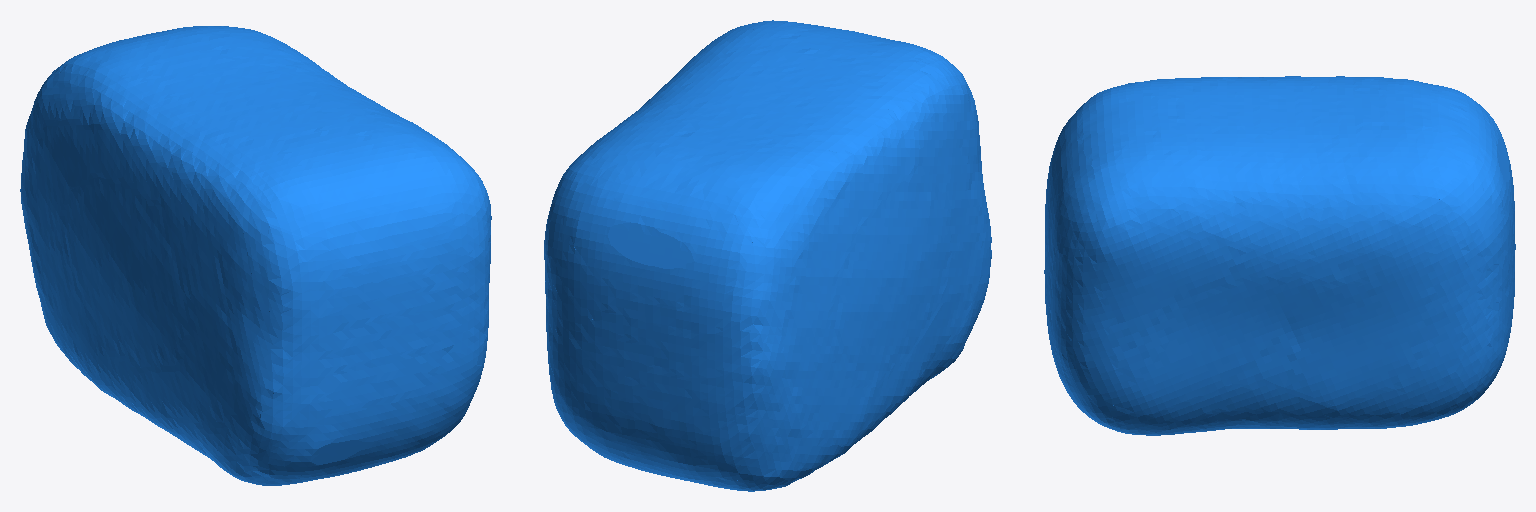
robot.urdf — mesh_obj:
<?xml version="1.0"?>
<robot name="mesh_obj">
  <link name="base">
    <inertial>
      <origin xyz="0 0 0" rpy="0 0 0"/>
      <mass value="0.01"/>
      <inertia ixx="9.043712425963854e-06" ixy="0" ixz="0" iyy="1.1387042655597892e-05" iyz="0" izz="9.384996783300233e-06"/>
    </inertial>
    <visual>
      <origin xyz="0 0 0" rpy="0 0 0"/>
      <geometry>
        <mesh filename="obj_mesh_visual.stl" scale="1 1 1"/>
      </geometry>
      <material name="obj_color">
        <color rgba="0.2 0.6 1.0 1.0"/>
      </material>
    </visual>
    <collision>
      <origin xyz="0 0 0" rpy="0 0 0"/>
      <geometry>
        <mesh filename="obj_mesh_collision.stl" scale="1 1 1"/>
      </geometry>
    </collision>
  </link>
</robot>

--- Render facts (derived) ---
Views: 3 orthographic renders of the robot side by side, from view 1: azimuth 30°, elevation 25°; view 2: azimuth 150°, elevation 25°; view 3: azimuth 270°, elevation 25°.
Model mesh_obj with 1 links and 0 joints (none), rooted at base, posed every joint at zero.
Visible links, largest first — view 1: base; view 2: base; view 3: base.
Boxes of the visible links, x1=… form: base: x1=20, y1=26, x2=491, y2=485; base: x1=544, y1=20, x2=991, y2=491; base: x1=1044, y1=76, x2=1515, y2=435.
Bounding box of the posed robot: 0.0466 × 0.0753 × 0.0516 m (x, y, z).
Meshes: 1 distinct files referenced, 1 mesh visuals loaded (1 binary STL).
